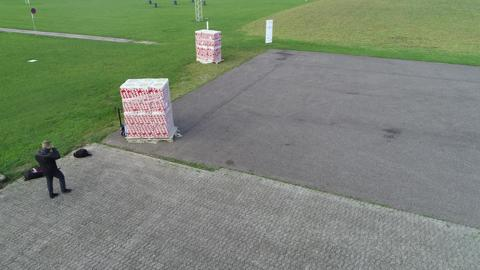RockwoolPallet: (121, 79, 176, 139)
